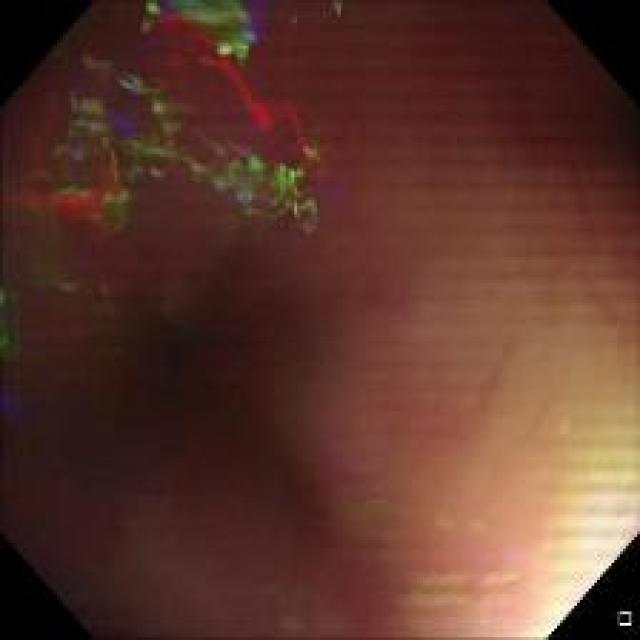blur: (39, 50, 601, 614)
color misalignment: (26, 39, 330, 238), (406, 544, 528, 624), (124, 1, 276, 65), (6, 251, 89, 300), (1, 276, 32, 351), (66, 348, 116, 386), (2, 380, 38, 422)
contrast: (80, 270, 331, 521)
saturation: (536, 494, 636, 636)
